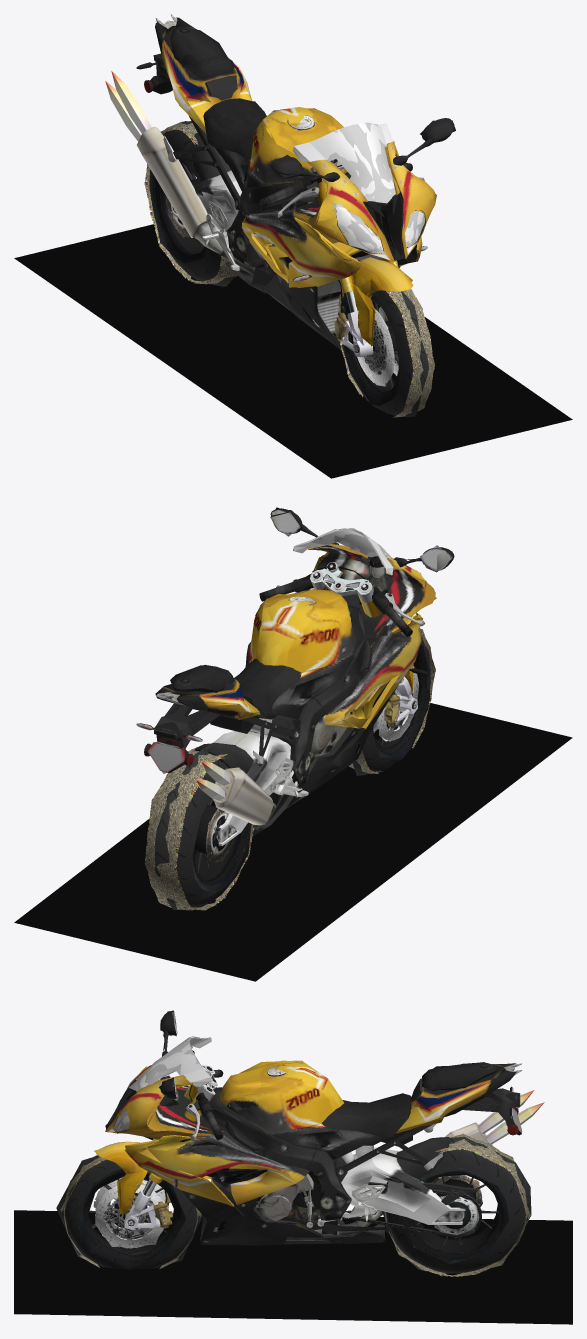
Rendered from LUZ 2015 Z1000RR Yellow.fbx.
3 renders of one model, top to bottom at view 1: azimuth 30°, elevation 25°; view 2: azimuth 150°, elevation 25°; view 3: azimuth 270°, elevation 25°, orthographic. The views are drawn at different scales.
Visible parts, largest first — view 1: Motorbike_Shadow, Body__LOD2_, Body, Body__LOD1_, Front_Fork, Muffler__LOD2_, Front_Wheel__LOD2_, Front_Tire__LOD2_, Front_Fork__LOD2_, Front_Fork__LOD1_, Rear_Tire__LOD2_, Rear_Wheel__LOD2_ (+14 smaller); view 2: Motorbike_Shadow, Body__LOD2_, Body, Body__LOD1_, Rear_Tire__LOD2_, Rear_Wheel_Dirt__LOD2_, Swing_Arm__LOD2_, Handle, Front_Wheel__LOD2_, Rear_Wheel_Dirt, Handle__LOD1_, Muffler__LOD2_ (+10 smaller); view 3: Motorbike_Shadow, Body__LOD2_, Body, Body__LOD1_, Front_Wheel__LOD2_, Swing_Arm__LOD2_, Rear_Tire__LOD2_, Swing_Arm, Rear_Wheel__LOD2_, Front_Wheel__LOD1_, Rear_Tire__LOD1_, Front_Tire__LOD2_ (+17 smaller).
Boxes of the visible parts, x1,y1,x2,y2 form: Motorbike_Shadow: (14, 224, 572, 478); Body__LOD2_: (151, 18, 455, 349); Body: (136, 17, 454, 347); Body__LOD1_: (139, 24, 452, 349); Front_Fork: (334, 258, 409, 357); Muffler__LOD2_: (137, 126, 255, 275); Front_Wheel__LOD2_: (340, 294, 401, 405); Front_Tire__LOD2_: (343, 291, 428, 416); Front_Fork__LOD2_: (334, 257, 412, 353); Front_Fork__LOD1_: (336, 258, 413, 348); Rear_Tire__LOD2_: (149, 121, 239, 286); Rear_Wheel__LOD2_: (151, 151, 205, 263); Motorbike_Shadow: (14, 703, 572, 981); Body__LOD2_: (144, 507, 452, 836); Body: (136, 508, 454, 835); Body__LOD1_: (144, 510, 454, 835); Rear_Tire__LOD2_: (155, 742, 251, 909); Rear_Wheel_Dirt__LOD2_: (144, 751, 254, 910); Swing_Arm__LOD2_: (199, 731, 290, 845); Handle: (259, 556, 425, 636); Front_Wheel__LOD2_: (371, 645, 430, 758); Rear_Wheel_Dirt: (146, 748, 254, 909); Handle__LOD1_: (260, 556, 423, 636); Muffler__LOD2_: (214, 767, 273, 824); Motorbike_Shadow: (14, 1210, 572, 1324); Body__LOD2_: (105, 1011, 521, 1245); Body: (105, 1010, 521, 1244); Body__LOD1_: (105, 1011, 522, 1244); Front_Wheel__LOD2_: (77, 1168, 186, 1268); Swing_Arm__LOD2_: (341, 1137, 481, 1237); Rear_Tire__LOD2_: (381, 1136, 531, 1273); Swing_Arm: (341, 1137, 481, 1237); Rear_Wheel__LOD2_: (404, 1168, 509, 1264); Front_Wheel__LOD1_: (78, 1173, 181, 1259); Rear_Tire__LOD1_: (392, 1143, 525, 1271); Front_Tire__LOD2_: (56, 1155, 202, 1269).
Size of the model in its own units: 110 by 118 by 250.
